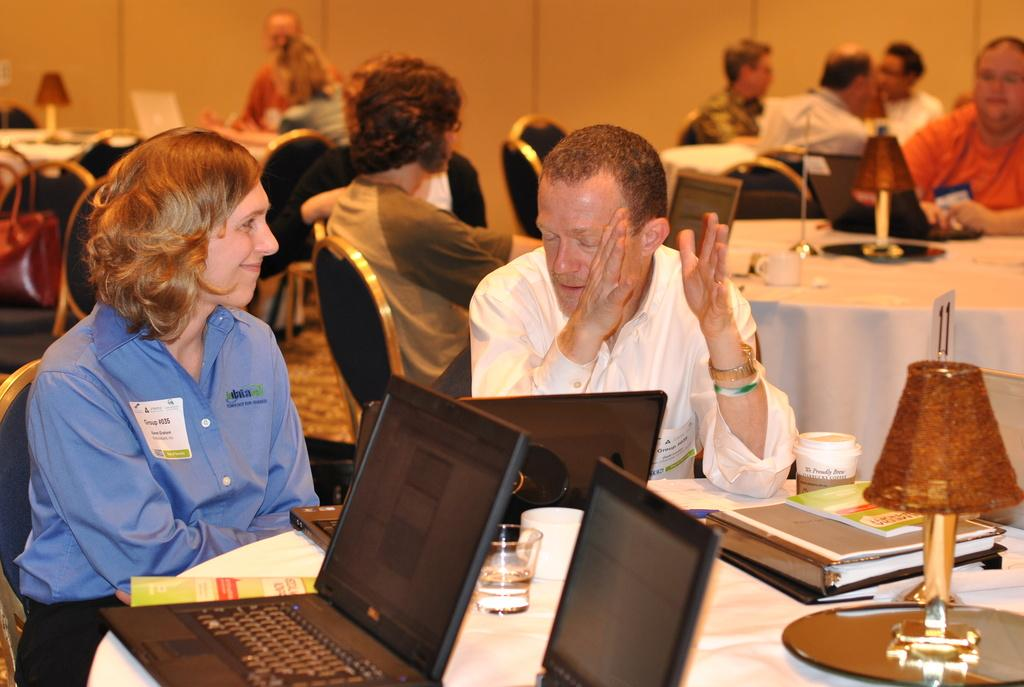Laptop: (147, 381, 548, 687), (535, 455, 716, 686), (459, 390, 665, 540), (803, 154, 982, 242), (289, 402, 380, 553), (668, 170, 742, 249)
